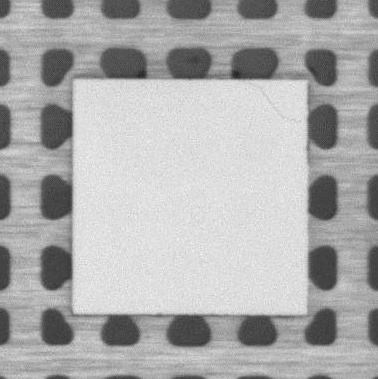DIE_CRACK: (247, 83, 303, 124)
